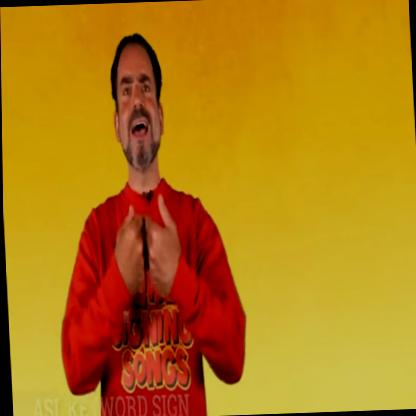HowAreYou: (110, 180, 187, 332)
